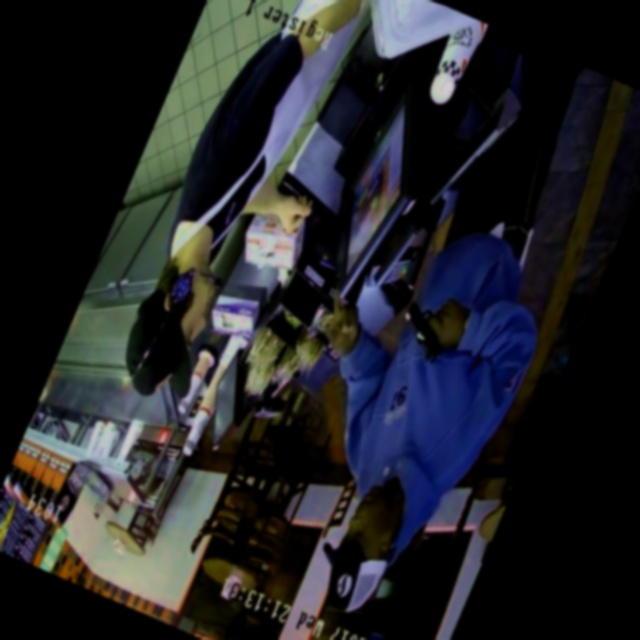gun: (373, 276, 483, 392)
